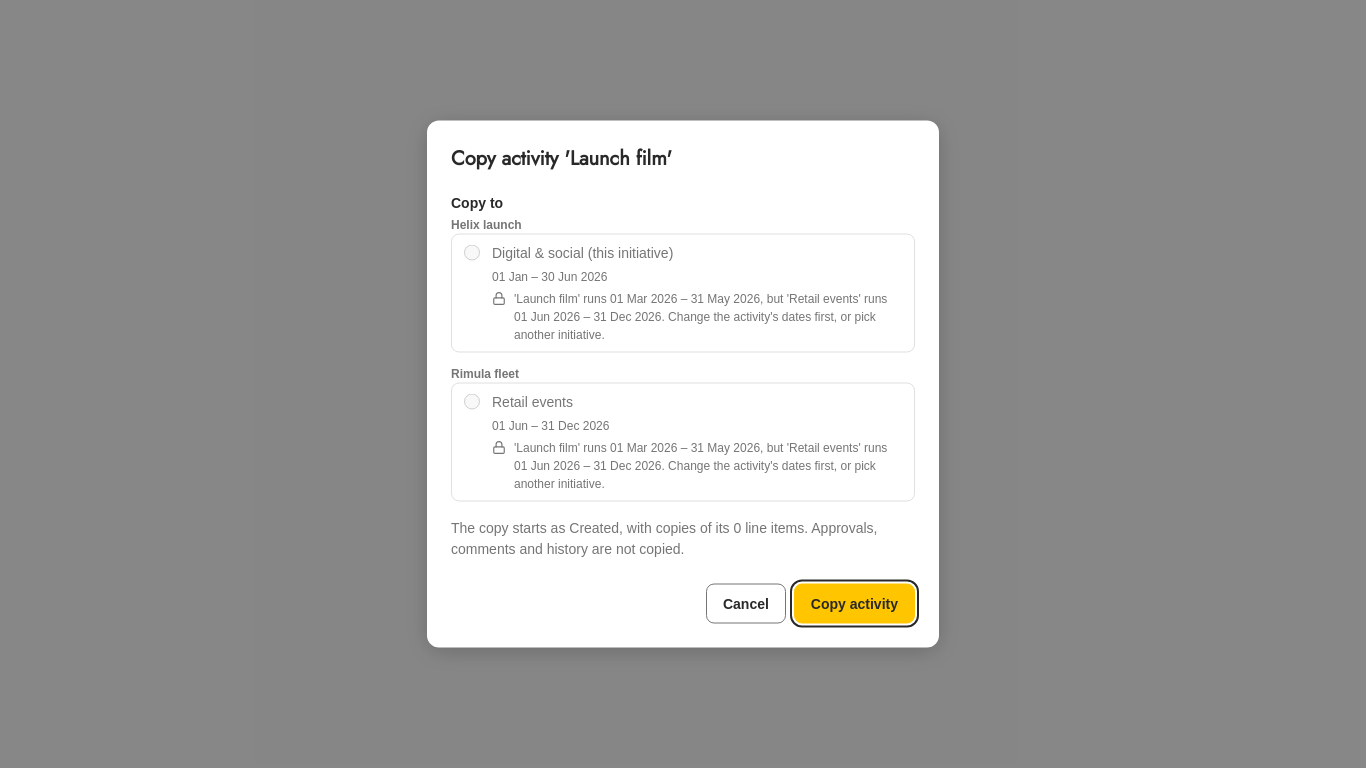
Scenario: CopyActivityDialog (feature 006, US5#2, FR-030) › asks for an initiative when its own can’t take the copy
The image size is (1366, 768).
Step 1. Click the button "Copy activity" → (854, 604), box x1=794 y1=584 x2=915 y2=624
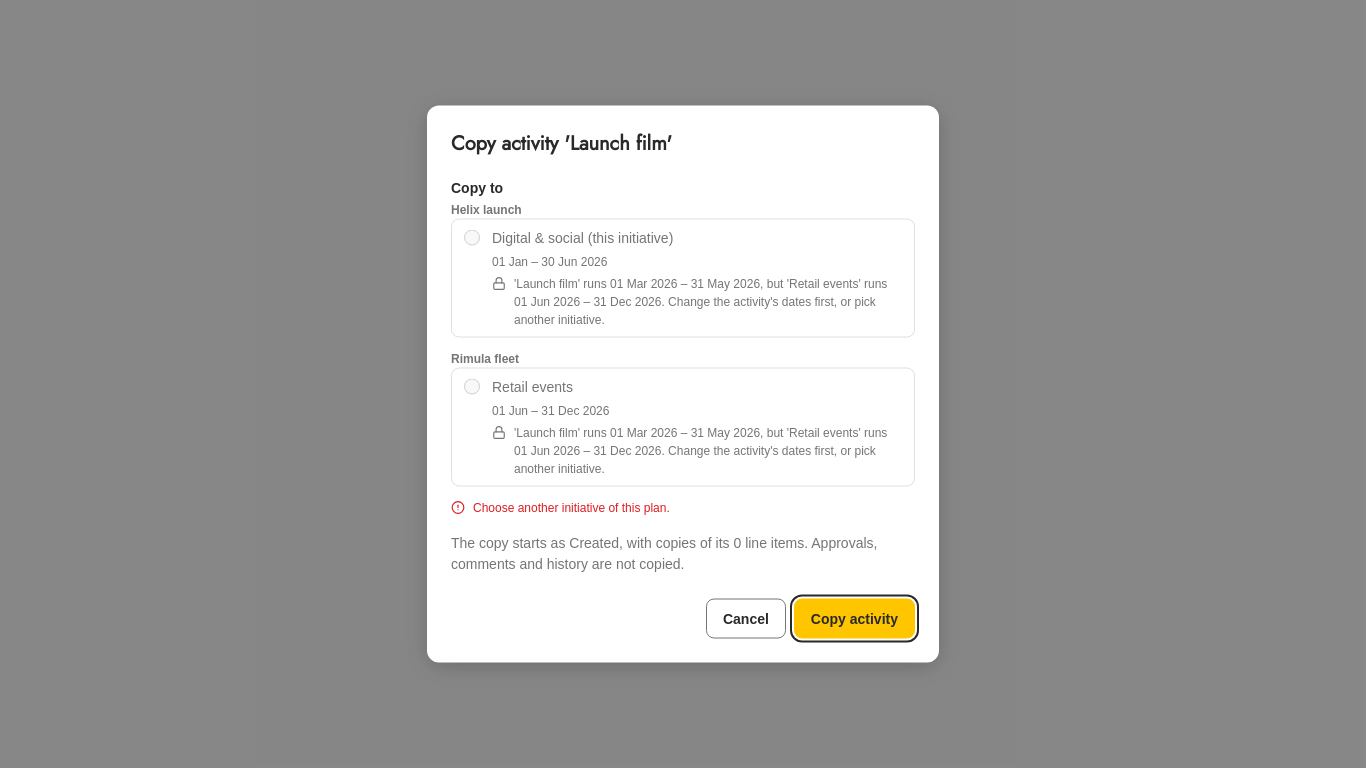
Now the text "Choose another initiative of this plan." is shown, box x1=451 y1=500 x2=670 y2=514
